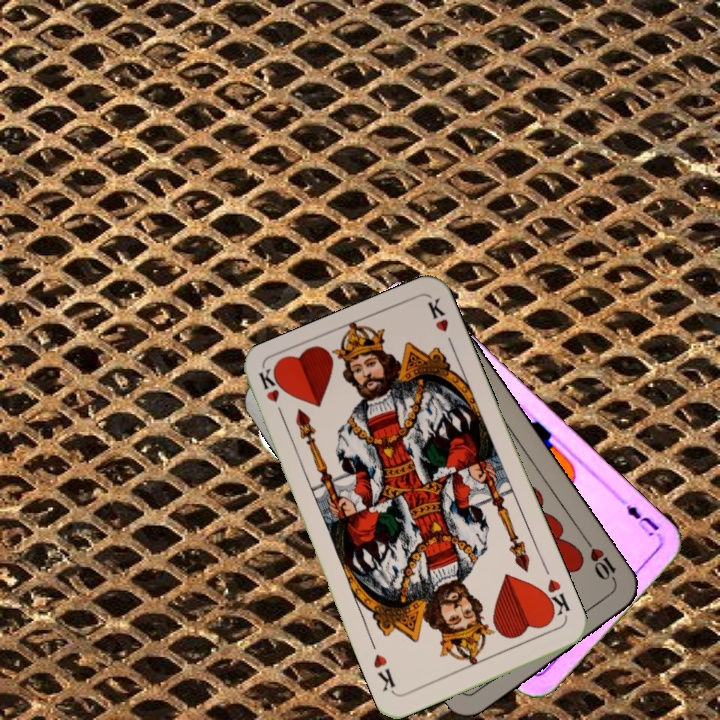EU: (615, 496, 664, 541)
H10: (581, 536, 620, 588)
HK: (255, 367, 289, 425), (537, 575, 572, 621)
